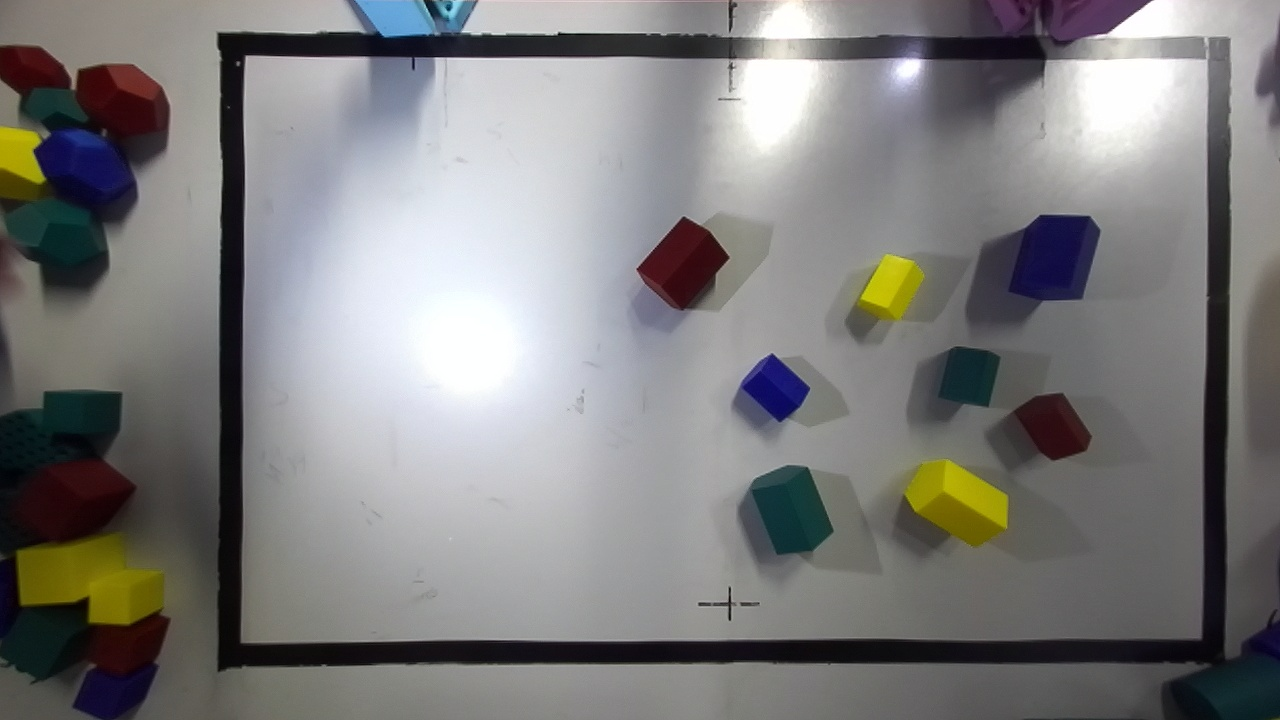hexagonal: (904, 460, 1007, 545), (637, 217, 729, 309), (1009, 215, 1100, 300), (749, 466, 832, 553), (1013, 393, 1091, 459), (740, 353, 810, 420), (857, 254, 923, 319), (938, 346, 999, 406)
